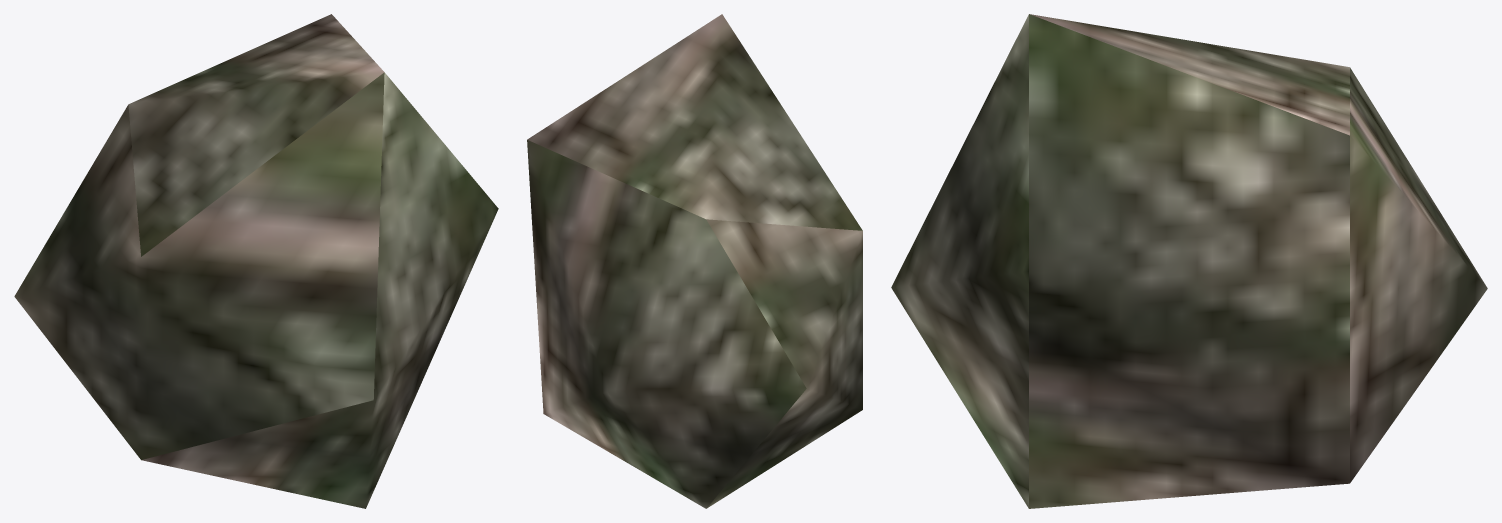
3 renders of one model, left to right at view 1: azimuth 30°, elevation 25°; view 2: azimuth 150°, elevation 25°; view 3: azimuth 270°, elevation 25°, orthographic. The views are drawn at different scales.
Visible parts, largest first — view 1: model_Object34; view 2: model_Object34; view 3: model_Object34.
Boxes of the visible parts, x1,y1,x2,y2 form: model_Object34: [14, 14, 498, 508]; model_Object34: [527, 14, 862, 508]; model_Object34: [891, 14, 1487, 508].
Size of the model in its own units: 0.571 by 0.6793 by 0.7265.
1 material, 1 textured.
